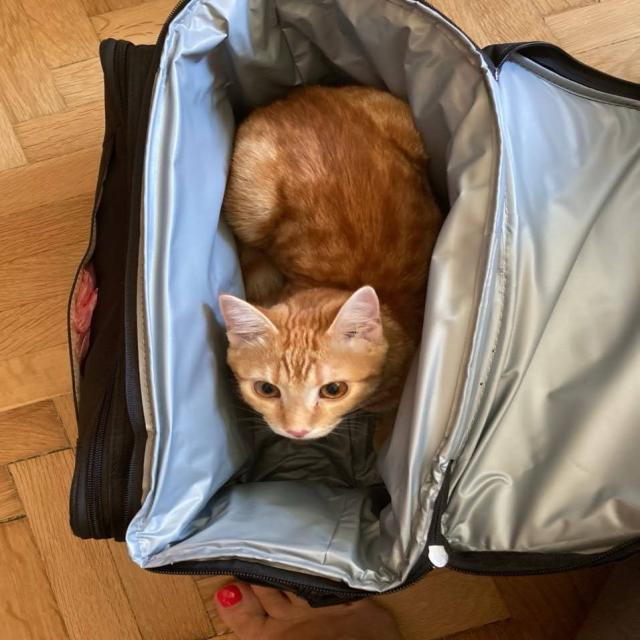red_cat: (196, 62, 444, 448)
